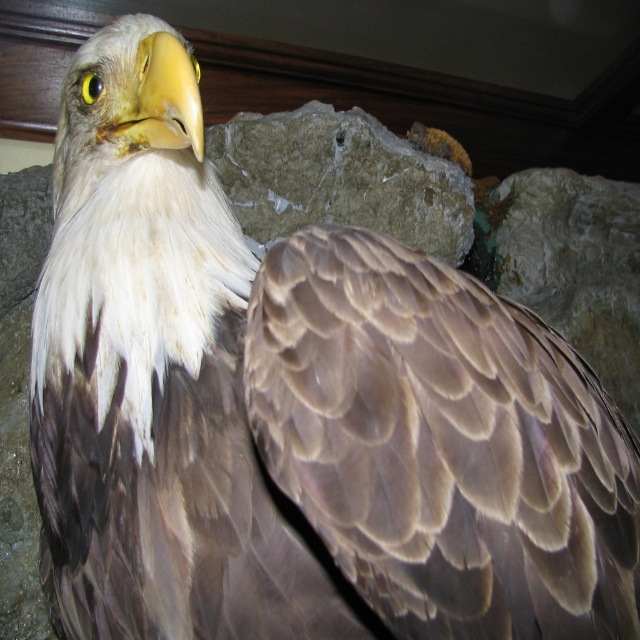Eagle: (30, 11, 640, 639)
